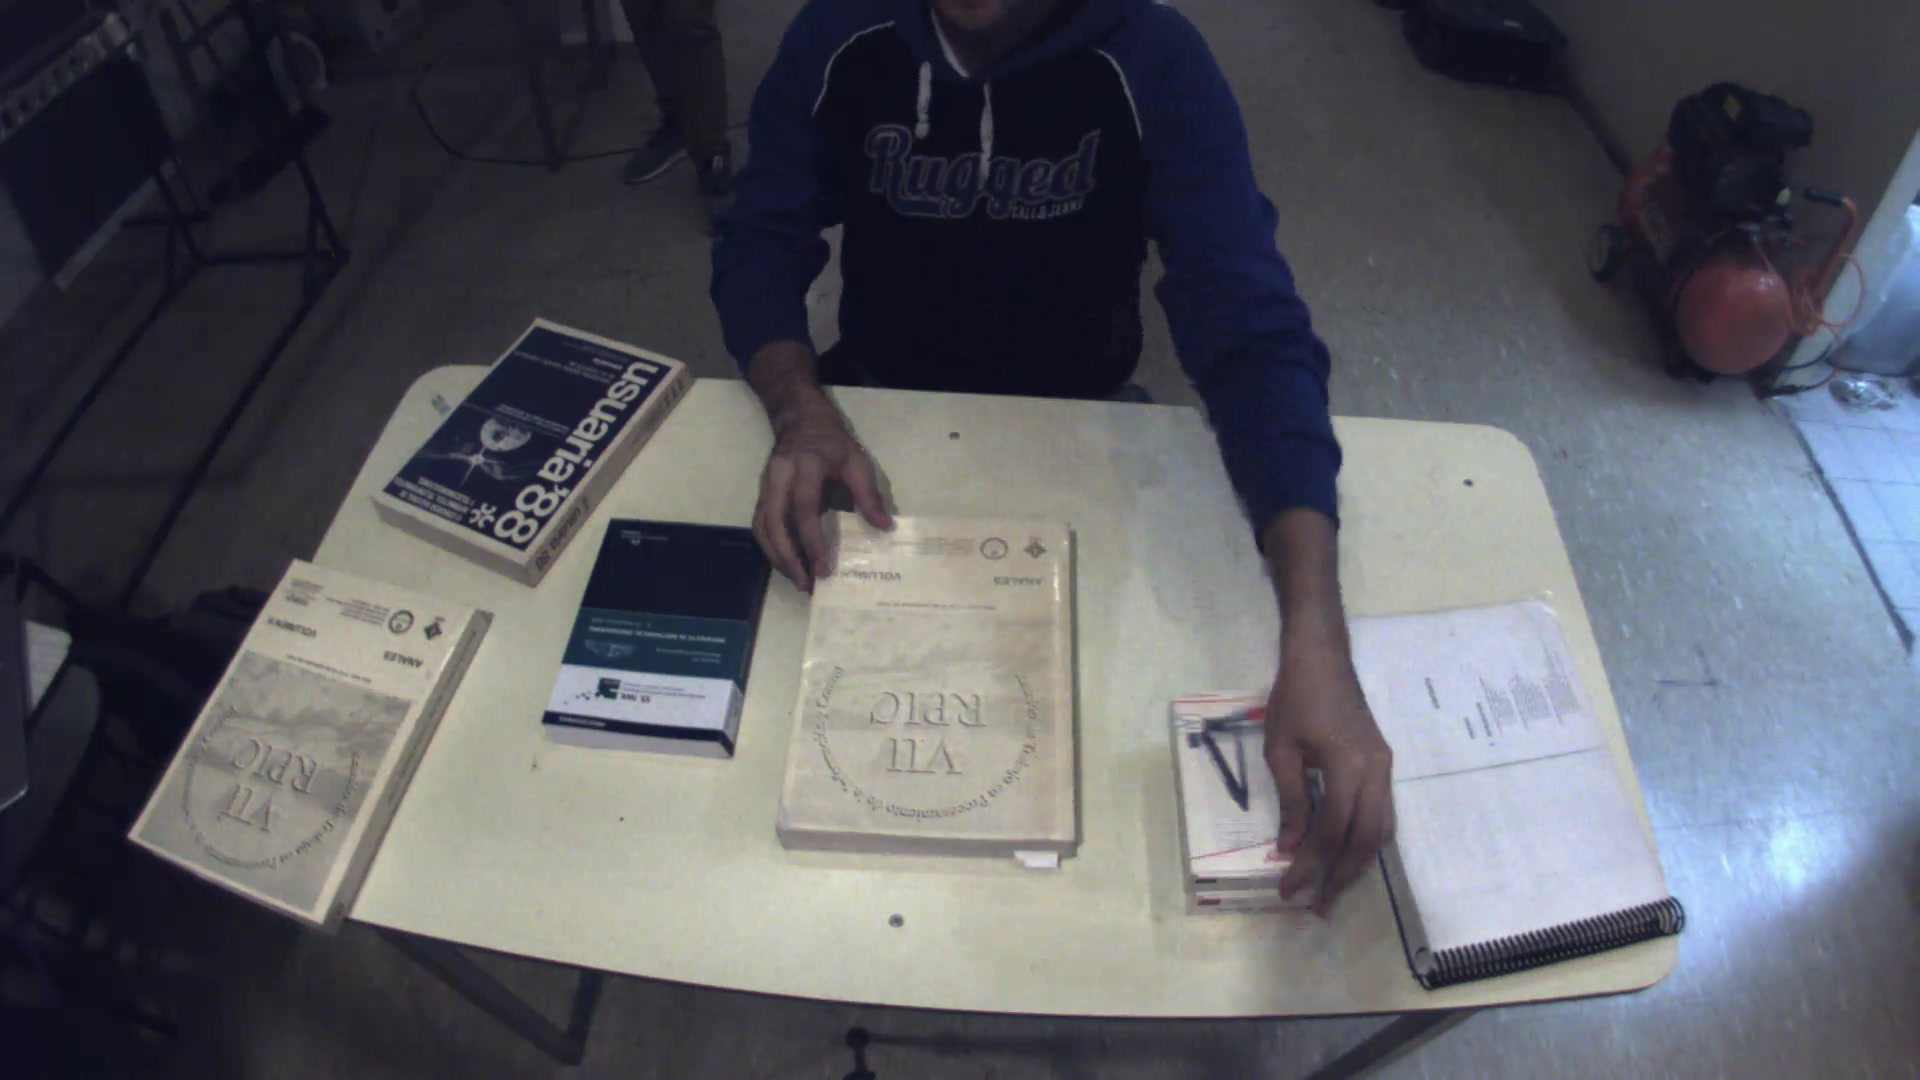hand: (1261, 661, 1406, 932), (731, 398, 901, 588)
